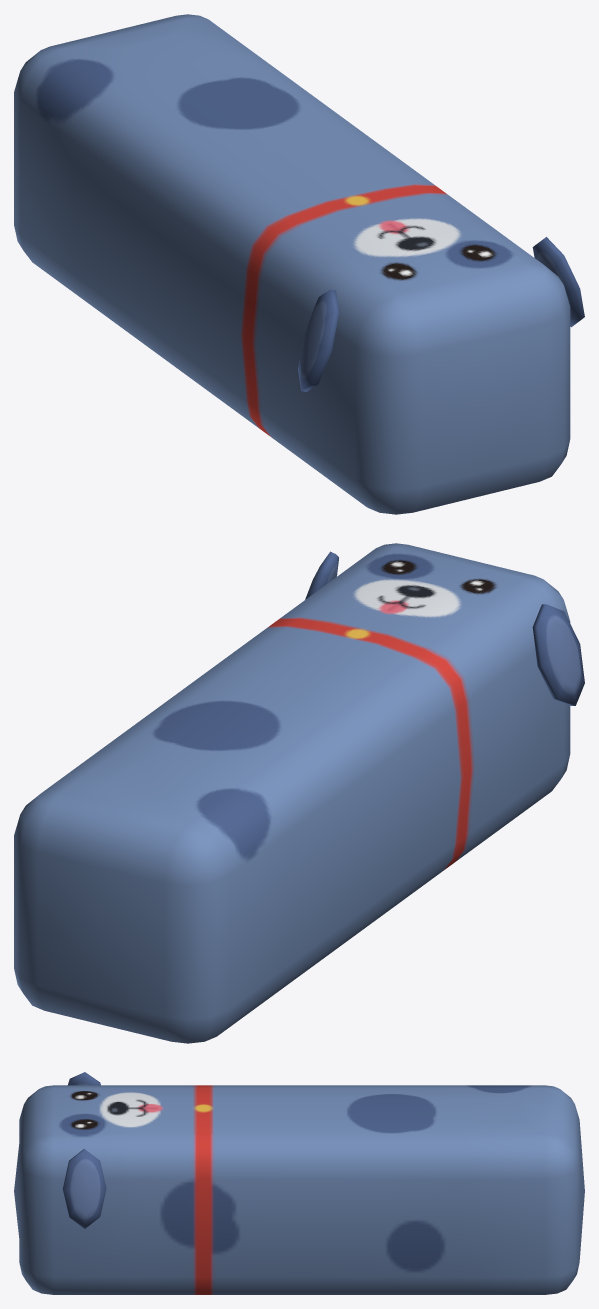
File: Dog_3x1.fbx
3 renders of one model, top to bottom at view 1: azimuth 30°, elevation 25°; view 2: azimuth 150°, elevation 25°; view 3: azimuth 270°, elevation 25°, orthographic. The views are drawn at different scales.
Visible parts, largest first — view 1: Dog_3x1; view 2: Dog_3x1; view 3: Dog_3x1.
Boxes of the visible parts, <box> form: Dog_3x1: <box>14,14,584,514</box>; Dog_3x1: <box>14,543,584,1043</box>; Dog_3x1: <box>14,1072,584,1294</box>.
Size of the model in its own units: 1.21 by 0.8864 by 2.98.
1 material, 1 textured.
